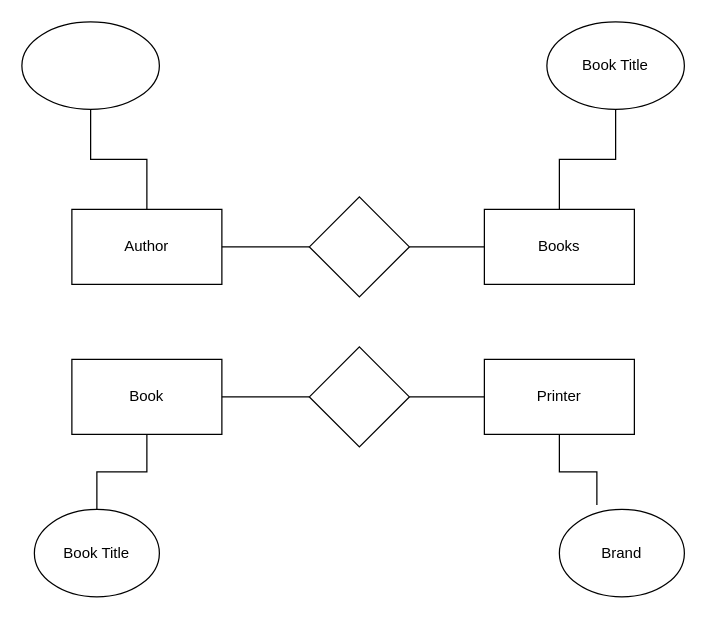
Some shapes in this 706 by 619 pixel diagram are drawn without their labels. The box of each missing label's shape, as (x1, y1, x2, y2) in pixels:
Author Name: (21, 21, 159, 109)
Printed: (308, 346, 409, 447)
Writes: (308, 196, 409, 297)
